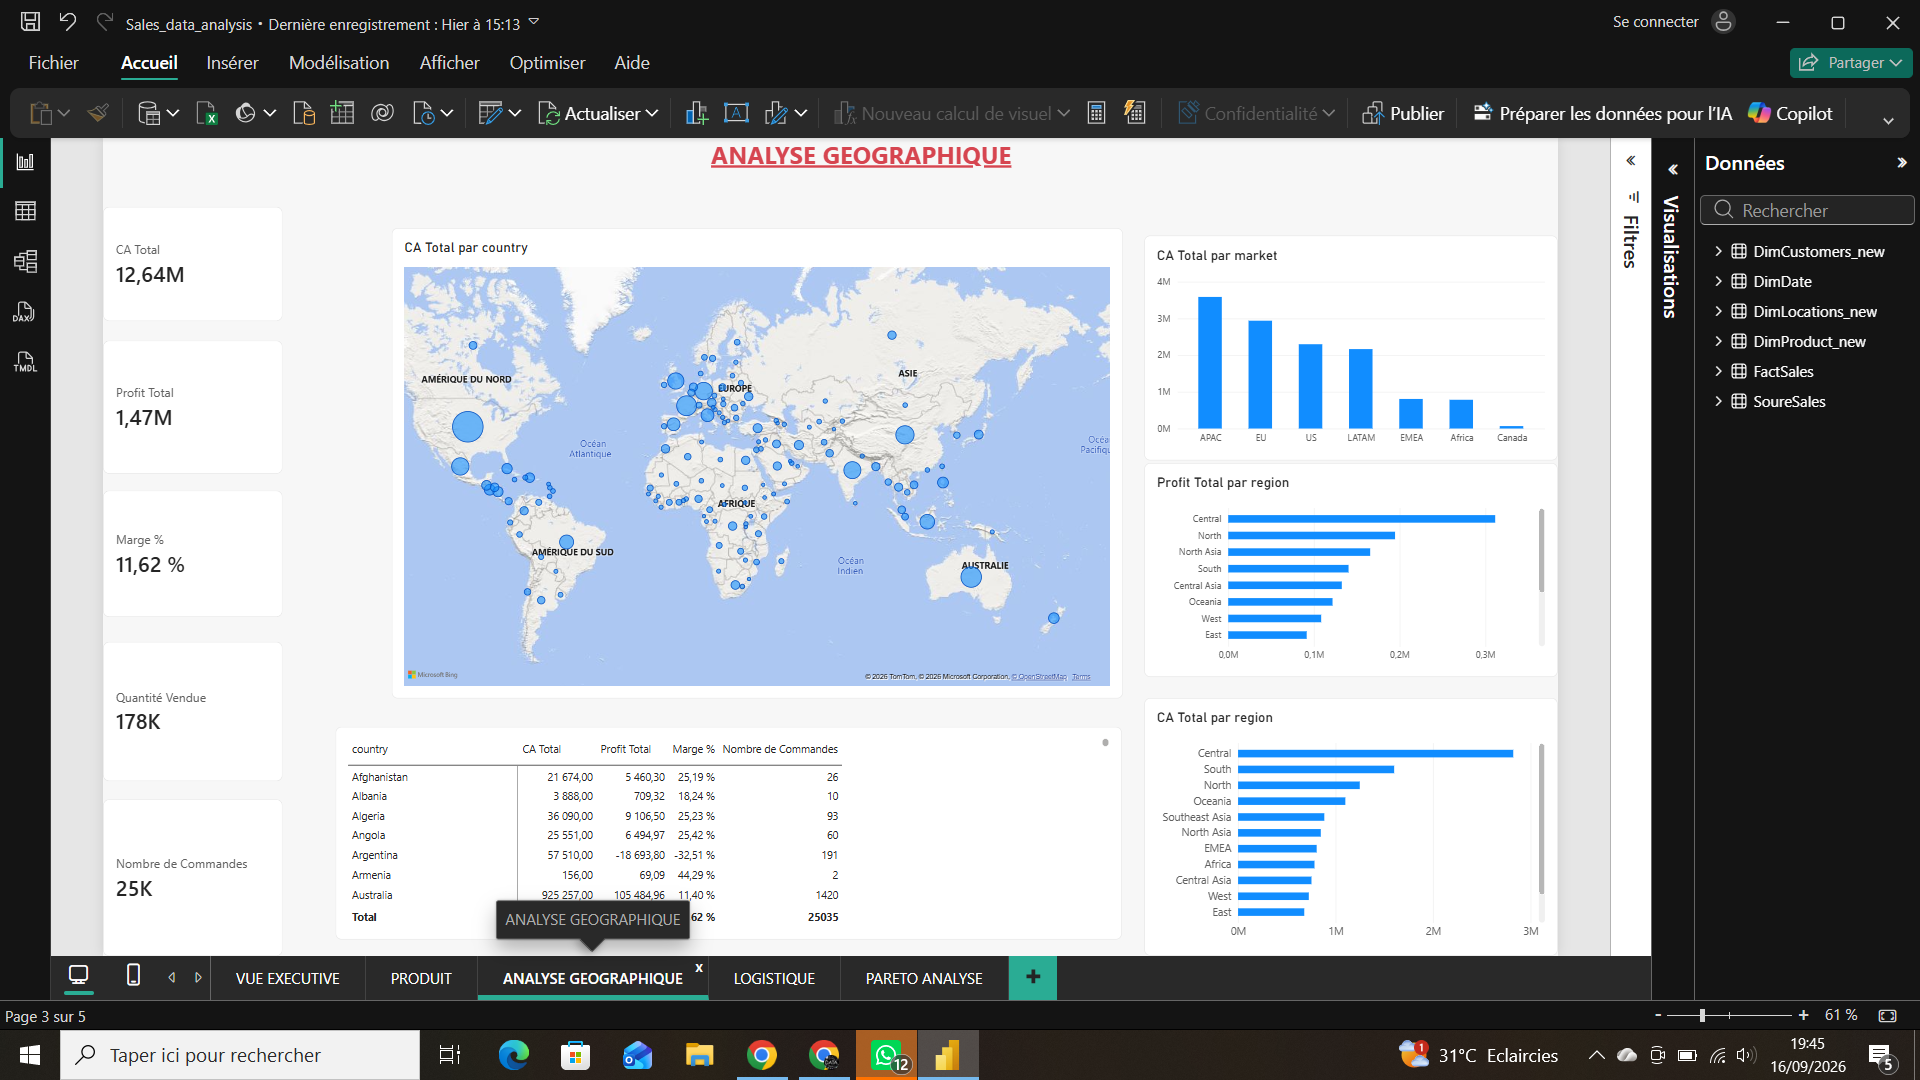

What the dashboard file says about the page in this screenshot:
{"tool":"powerbi","page":{"name":"ANALYSE GEOGRAPHIQUE","canvas":[1920,1080],"ordinal":2},"visuals":[{"type":"textbox","box":[680.2,0,641.9,109.9],"z":0},{"type":"cardVisual","fields":{"Data":["FactSales.CA Total"]},"box":[0,90.7,237.2,151.7],"z":1000},{"type":"cardVisual","fields":{"Data":["FactSales.Profit Total"]},"box":[0,266.9,237.2,176.2],"z":2000},{"type":"cardVisual","fields":{"Data":["FactSales.Quantité Vendue"]},"box":[0,664.5,237.2,184.9],"z":3000},{"type":"cardVisual","fields":{"Data":["FactSales.Marge %"]},"box":[0,465.7,237.2,167.4],"z":4000},{"type":"clusteredBarChart","fields":{"Y":["FactSales.CA Total"],"Category":["DimLocations_new.region"]},"box":[1374.4,739.5,545.9,340.1],"z":5000},{"type":"clusteredBarChart","fields":{"Category":["DimLocations_new.region"],"Y":["FactSales.Profit Total"]},"box":[1374.4,429.1,545.9,282.6],"z":6000},{"type":"clusteredColumnChart","fields":{"Y":["FactSales.CA Total"],"Category":["DimLocations_new.market"]},"box":[1374.4,129.1,545.9,296.5],"z":7000},{"type":"map","title":"CA Total par country ","fields":{"Size":["FactSales.CA Total"],"Category":["DimLocations_new.country"]},"box":[380.2,118.6,964.5,620.9],"z":8000},{"type":"pivotTable","fields":{"Rows":["DimLocations_new.country"],"Values":["FactSales.CA Total","FactSales.Profit Total","FactSales.Marge %","FactSales.Nombre de Commandes"]},"box":[307,776.2,1037.8,280.8],"z":9000},{"type":"cardVisual","fields":{"Data":["FactSales.Nombre de Commandes"]},"box":[0,872.1,237,207],"z":10000}]}

Visuals, with their boxes on the page's 1920x1080 design canvas (x1, y1, x2, y2). These are canvas units, not pixel positions in the 1920x1080 screenshot, which may show the page scaled, cropped or inside an application window:
textbox: rect(680, 0, 1322, 110)
cardVisual - FactSales.CA Total: rect(0, 91, 237, 242)
cardVisual - FactSales.Profit Total: rect(0, 267, 237, 443)
cardVisual - FactSales.Quantité Vendue: rect(0, 664, 237, 849)
cardVisual - FactSales.Marge %: rect(0, 466, 237, 633)
clusteredBarChart - FactSales.CA Total x DimLocations_new.region: rect(1374, 740, 1920, 1080)
clusteredBarChart - DimLocations_new.region x FactSales.Profit Total: rect(1374, 429, 1920, 712)
clusteredColumnChart - FactSales.CA Total x DimLocations_new.market: rect(1374, 129, 1920, 426)
"CA Total par country " map: rect(380, 119, 1345, 740)
pivotTable - DimLocations_new.country x FactSales.CA Total: rect(307, 776, 1345, 1057)
cardVisual - FactSales.Nombre de Commandes: rect(0, 872, 237, 1079)
